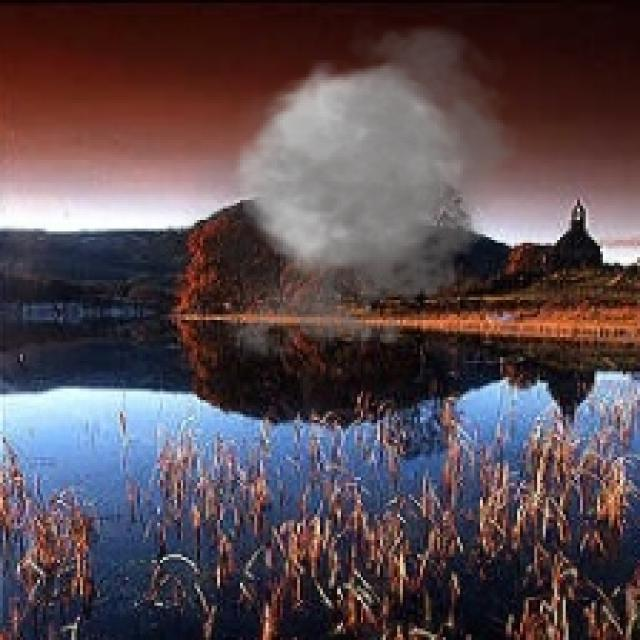Smoke: (172, 11, 532, 368)
